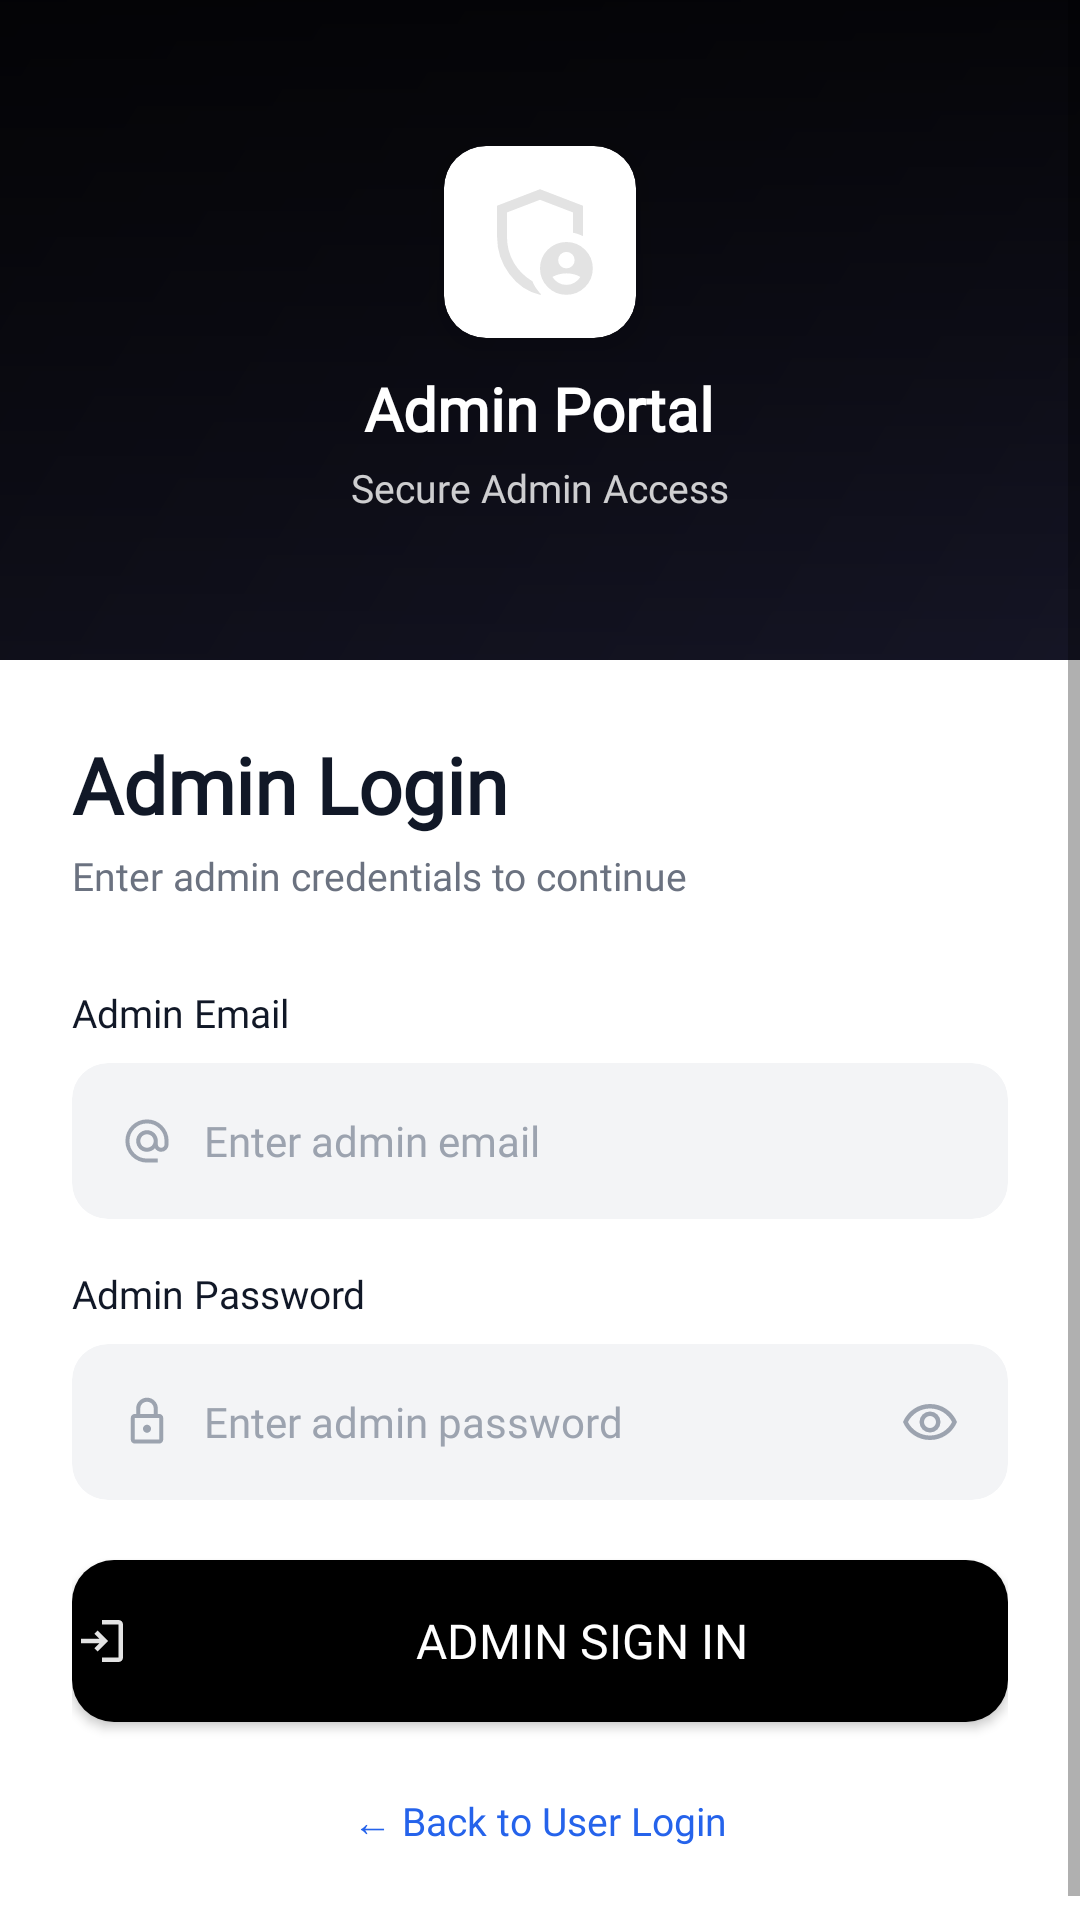

Locate icon controls on the screen. Image size 1080x1920, boxes as detection(x1, y1, x2, y2).
Lock icon: detection(131, 1398, 163, 1444)
Toggle password visibility: detection(903, 1404, 957, 1440)
